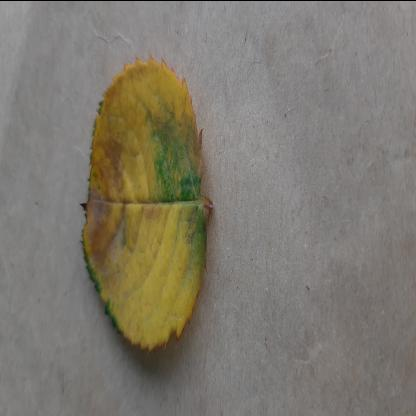black-spot: (81, 54, 212, 358)
